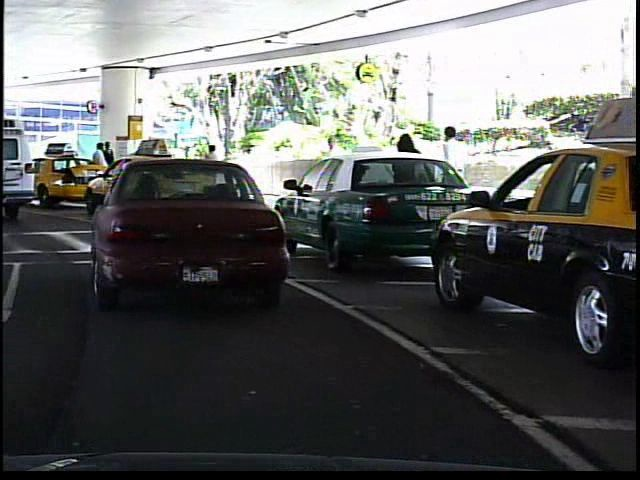person: (433, 118, 477, 229), (389, 125, 425, 230), (315, 128, 344, 204), (199, 138, 223, 190), (89, 142, 107, 195), (102, 138, 117, 193)
